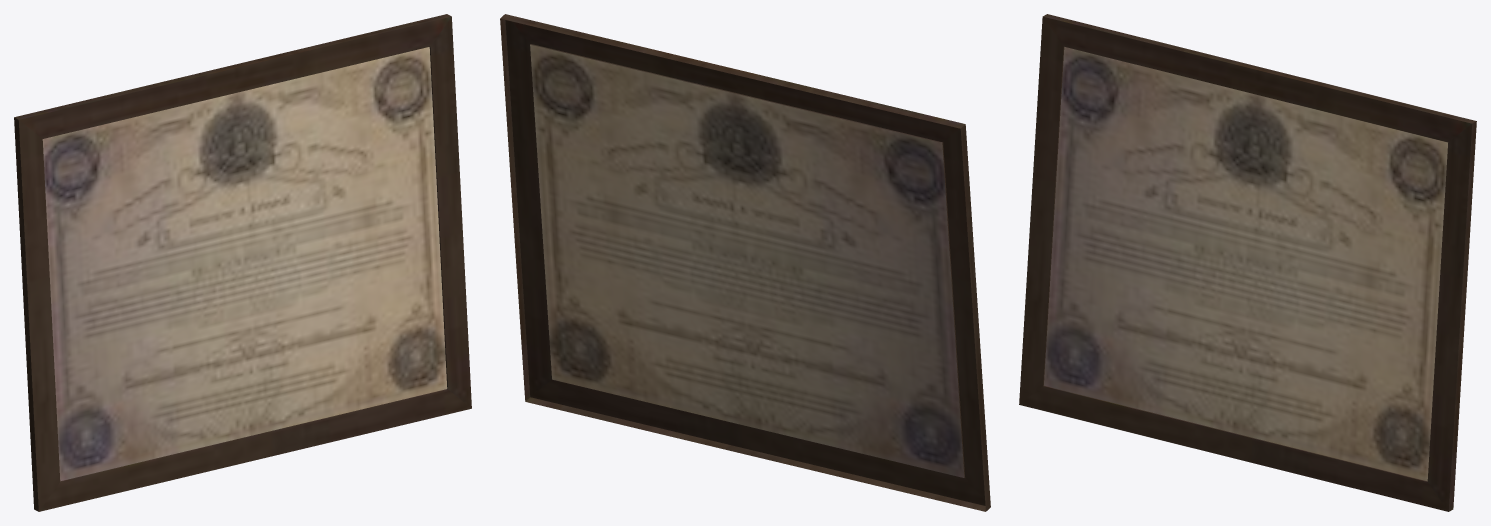
The model's file is certificate-3.glb.
3 renders of one model, left to right at view 1: azimuth 30°, elevation 25°; view 2: azimuth 150°, elevation 25°; view 3: azimuth 330°, elevation 25°, orthographic. The views are drawn at different scales.
Visible parts, largest first — view 1: certificate-3; view 2: certificate-3; view 3: certificate-3.
Boxes of the visible parts, bbox=[...] form: certificate-3: bbox=[14, 14, 471, 511]; certificate-3: bbox=[500, 14, 990, 511]; certificate-3: bbox=[1019, 14, 1476, 511].
Bounding box in the file's own units: 0.3012 × 0.2508 × 0.0321.
1 material, 1 textured.
